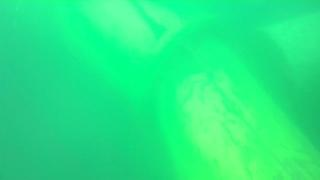pipe: (154, 30, 320, 180), (46, 1, 221, 112), (237, 10, 320, 104)
